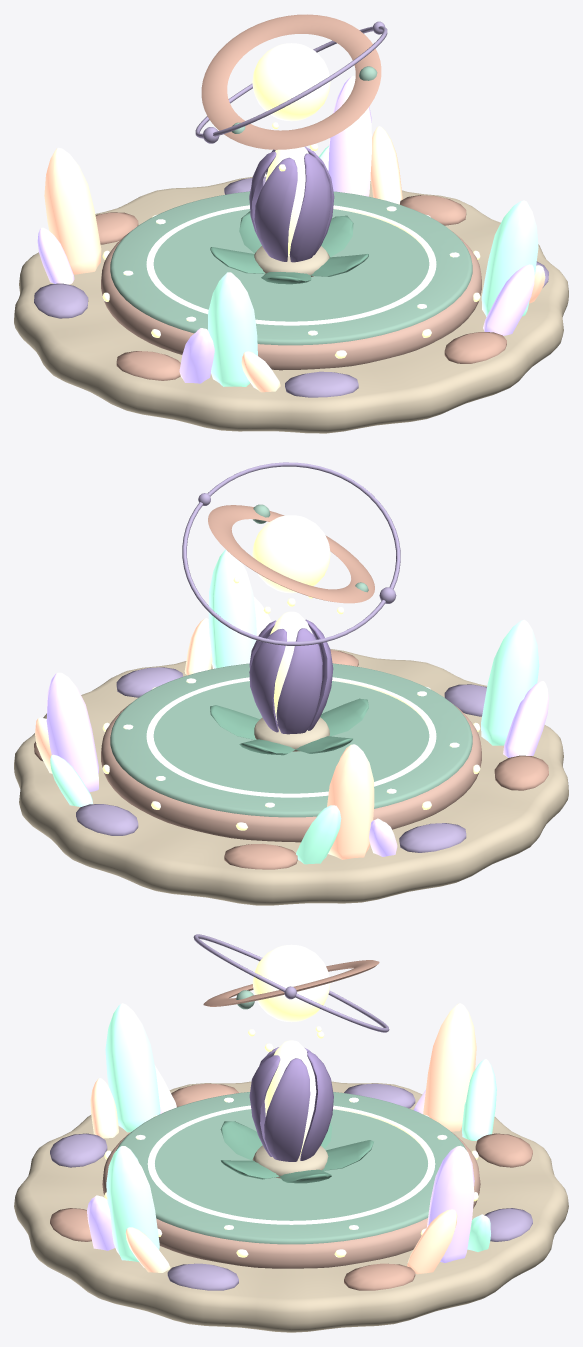
Rendered from plaza.fbx.
The picture shows the model from 3 angles, top to bottom: view 1: azimuth 30°, elevation 25°; view 2: azimuth 150°, elevation 25°; view 3: azimuth 270°, elevation 25°; orthographic projection.
Visible parts, largest first — view 1: Plaza_SeatTier, Plaza_StageFloor, Plaza_GlowCrystals, Plaza_PlanetRings, Plaza_SeatCushions, Plaza_StageBody, Plaza_BudPetals, Plaza_BudLeaves, Plaza_GlowOrb, Plaza_GlowDanceRing, Plaza_GlowBudCore, Plaza_RingMoons; view 2: Plaza_SeatTier, Plaza_StageFloor, Plaza_GlowCrystals, Plaza_SeatCushions, Plaza_StageBody, Plaza_PlanetRings, Plaza_BudPetals, Plaza_BudLeaves, Plaza_GlowOrb, Plaza_GlowDanceRing, Plaza_GlowBudCore, Plaza_RingMoons; view 3: Plaza_SeatTier, Plaza_StageFloor, Plaza_GlowCrystals, Plaza_SeatCushions, Plaza_StageBody, Plaza_BudPetals, Plaza_BudLeaves, Plaza_GlowOrb, Plaza_GlowDanceRing, Plaza_PlanetRings, Plaza_GlowBudCore.
Part boxes in pixels (left/top/right/bottom): Plaza_SeatTier: left=14, top=176, right=568, bottom=433; Plaza_StageFloor: left=110, top=191, right=472, bottom=345; Plaza_GlowCrystals: left=37, top=75, right=545, bottom=392; Plaza_PlanetRings: left=195, top=14, right=387, bottom=149; Plaza_SeatCushions: left=34, top=177, right=548, bottom=397; Plaza_StageBody: left=101, top=231, right=481, bottom=370; Plaza_BudPetals: left=249, top=146, right=334, bottom=262; Plaza_BudLeaves: left=210, top=211, right=368, bottom=284; Plaza_GlowOrb: left=252, top=43, right=330, bottom=121; Plaza_GlowDanceRing: left=123, top=205, right=459, bottom=335; Plaza_GlowBudCore: left=265, top=147, right=308, bottom=256; Plaza_RingMoons: left=202, top=21, right=384, bottom=143; Plaza_SeatTier: left=14, top=649, right=568, bottom=905; Plaza_StageFloor: left=110, top=663, right=472, bottom=817; Plaza_GlowCrystals: left=35, top=549, right=548, bottom=864; Plaza_SeatCushions: left=34, top=650, right=548, bottom=869; Plaza_StageBody: left=101, top=703, right=481, bottom=842; Plaza_PlanetRings: left=182, top=462, right=400, bottom=645; Plaza_BudPetals: left=249, top=619, right=333, bottom=734; Plaza_BudLeaves: left=210, top=698, right=368, bottom=755; Plaza_GlowOrb: left=252, top=515, right=330, bottom=593; Plaza_GlowDanceRing: left=123, top=677, right=459, bottom=807; Plaza_GlowBudCore: left=270, top=611, right=312, bottom=721; Plaza_RingMoons: left=198, top=493, right=396, bottom=603; Plaza_SeatTier: left=14, top=1081, right=568, bottom=1332; Plaza_StageFloor: left=116, top=1092, right=466, bottom=1244; Plaza_GlowCrystals: left=87, top=1003, right=496, bottom=1274; Plaza_SeatCushions: left=50, top=1083, right=532, bottom=1290; Plaza_StageBody: left=102, top=1132, right=480, bottom=1268; Plaza_BudPetals: left=249, top=1047, right=333, bottom=1161; Plaza_BudLeaves: left=220, top=1121, right=373, bottom=1183; Plaza_GlowOrb: left=252, top=944, right=330, bottom=1022; Plaza_GlowDanceRing: left=135, top=1097, right=447, bottom=1229; Plaza_PlanetRings: left=193, top=934, right=389, bottom=1032; Plaza_GlowBudCore: left=264, top=1040, right=316, bottom=1154.
Size of the model in its own units: 4.28 by 2.47 by 4.28.
